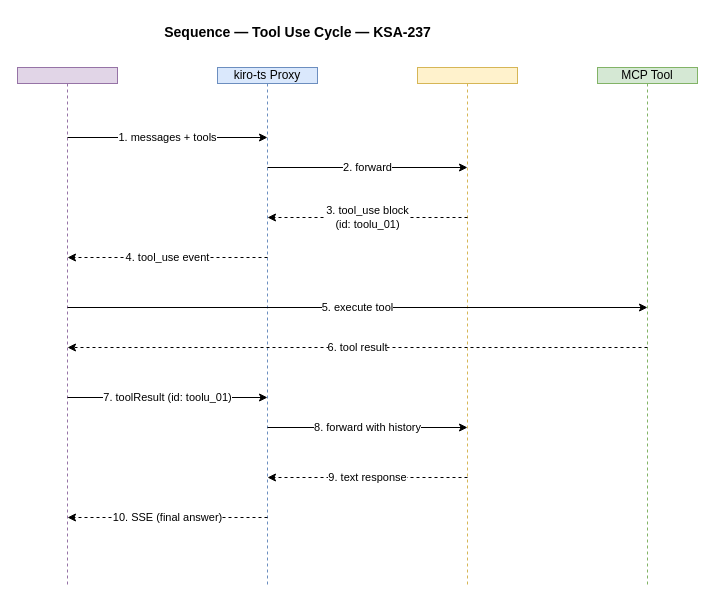
Image size: 715x605. Some labels were removed from this diagram. The shapes that lost their labels are listed below. From the top down, each one's box as (x1, y1, x2, y2) in pixels, then its label:
(16, 66, 118, 588): Chat Panel (Agent)
(416, 66, 518, 588): AI Backend
